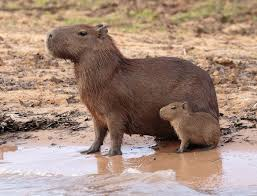capivara: (46, 24, 220, 157), (160, 101, 221, 152)
